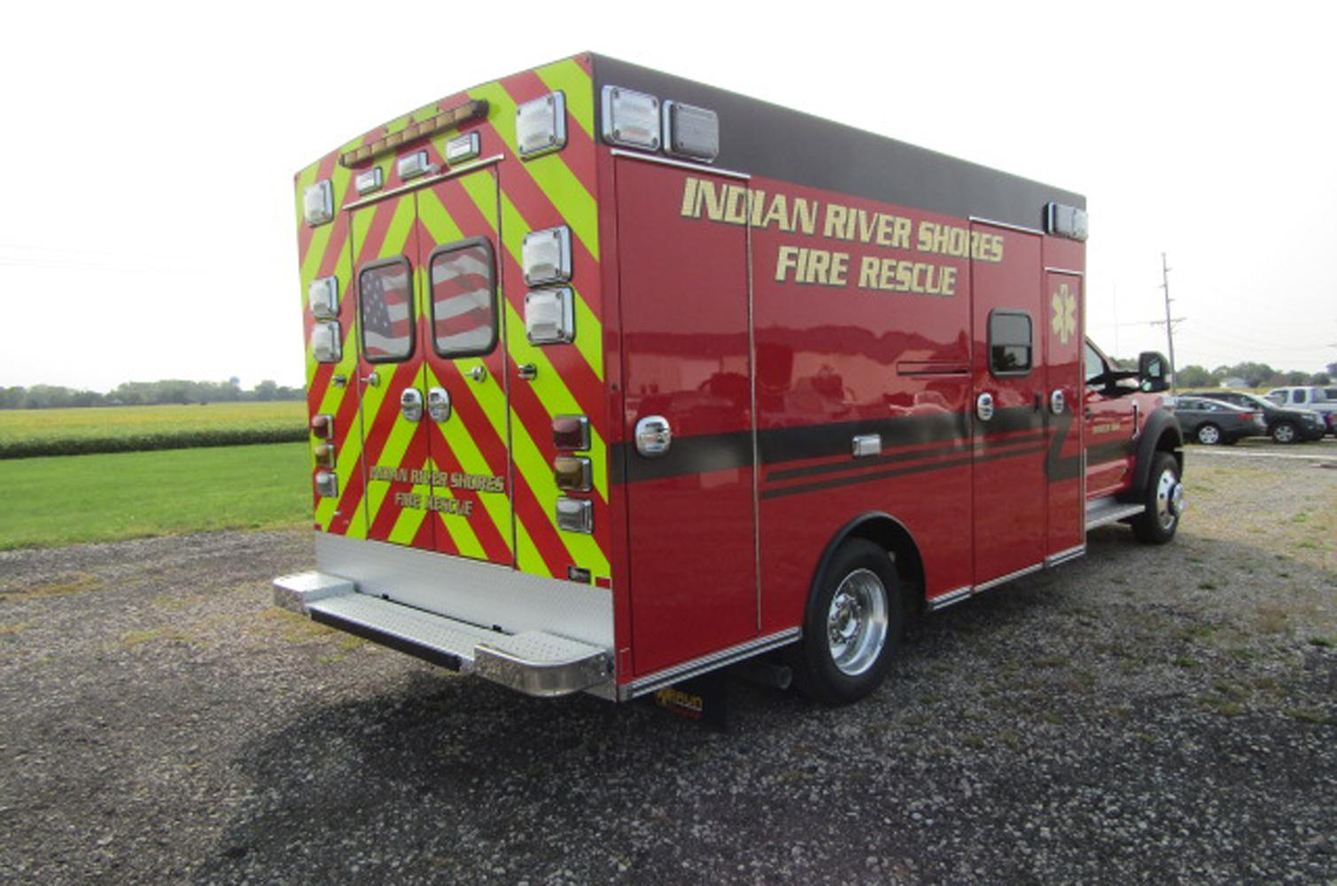Emergency-Vehicles: (302, 108, 1188, 672)
